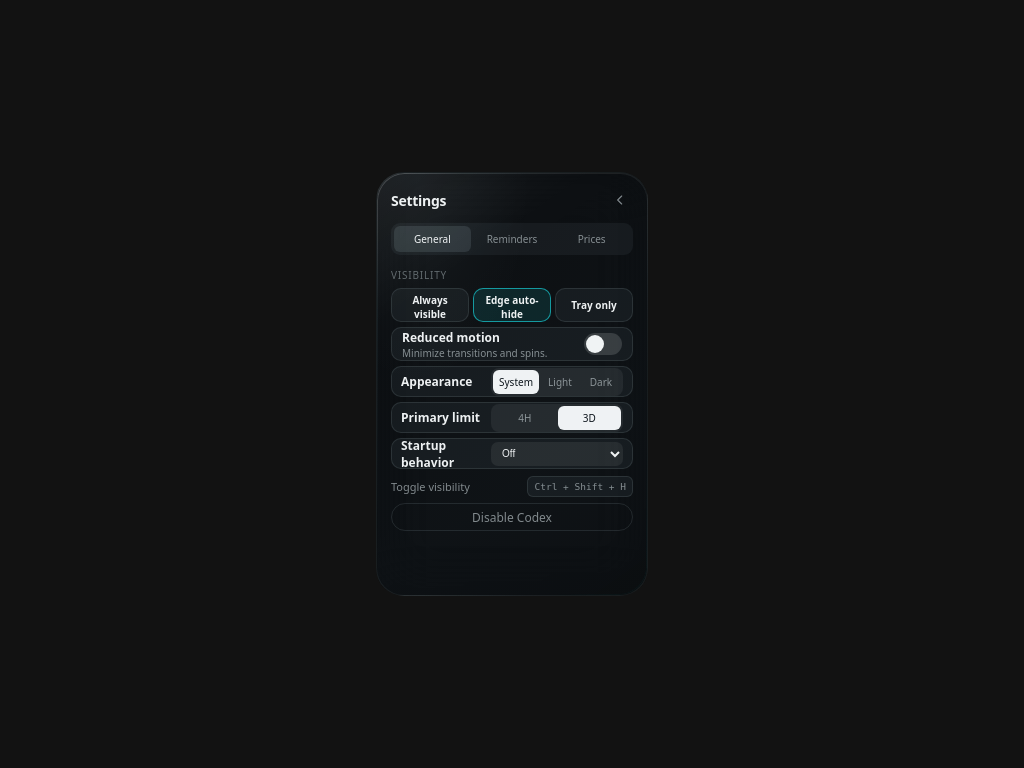
Test case: SettingsSheet › navigates independent settings pages without exposing unrelated controls
The image size is (1024, 768).
Expected: the dropdown labelled "Startup behavior" is shown, [491,442,623,466]
Expected: the number field labelled "Minutes before reset" is not shown
Click the button "Reminders" at (512, 239), box [474,226,550,252]
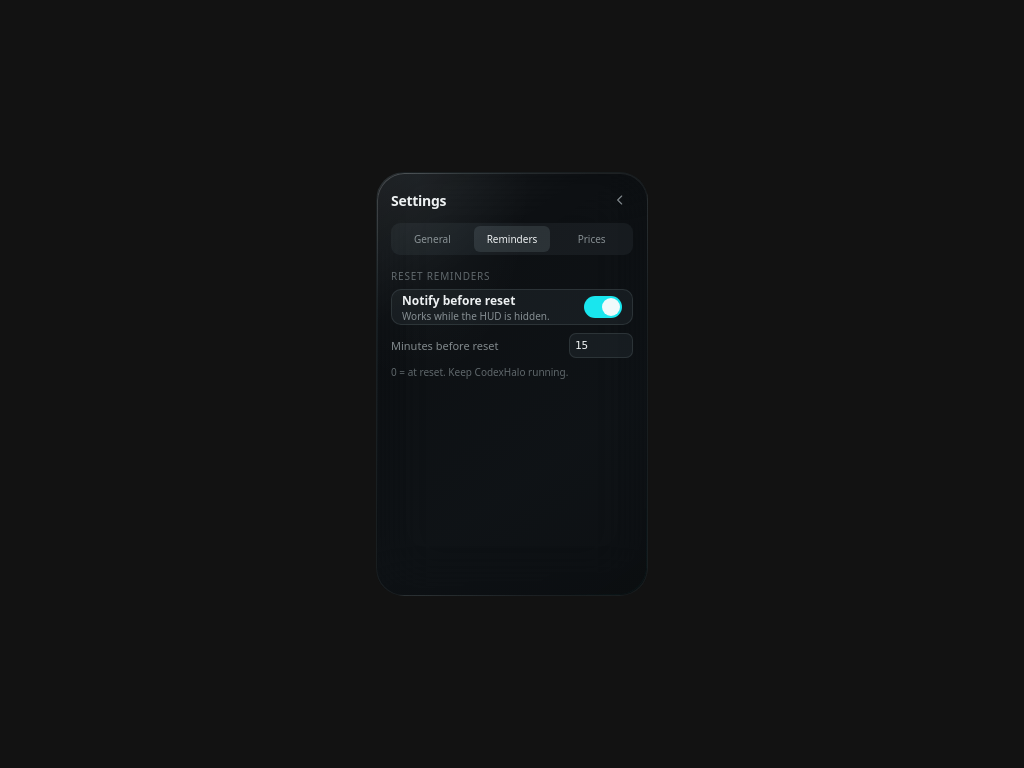
Expected: the number field labelled "Minutes before reset" is shown, [569,333,633,358]
Expected: the text "Startup behavior" is gone
Click the button "Prices" at (592, 239), box [553,226,630,252]
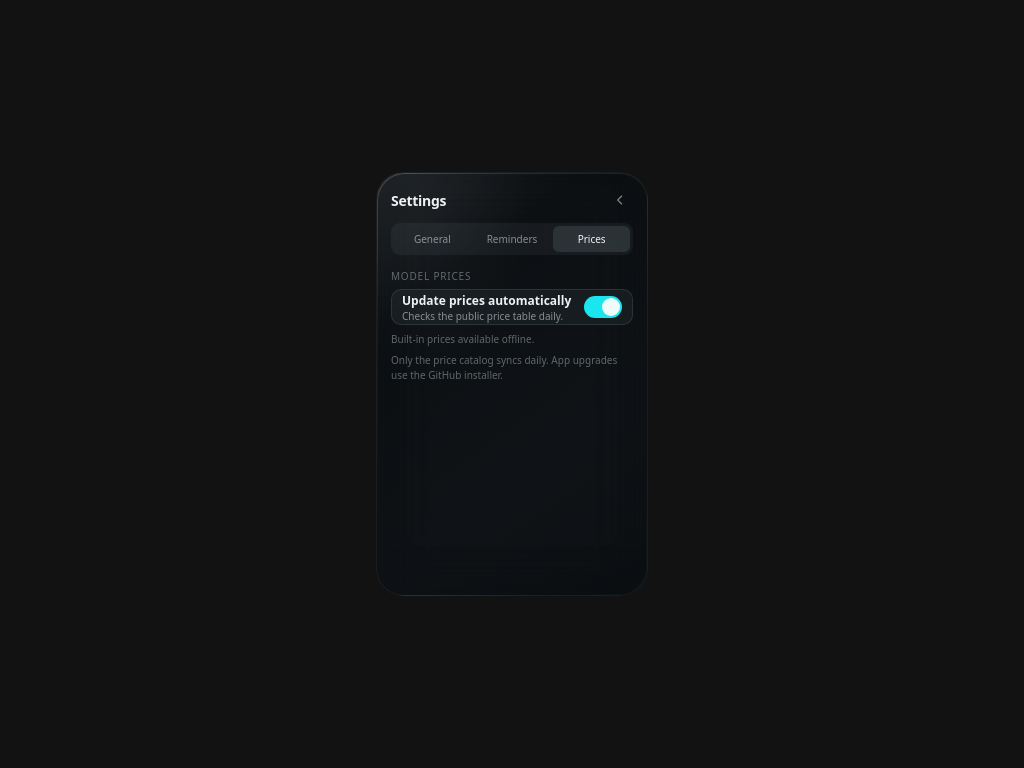
Expected: the switch labelled "Update prices automatically" is shown, [391,289,633,325]
Expected: the switch labelled "Notify before reset" is gone
Expected: the text "App upgrades use the GitHub installer" is shown, [391,353,617,382]
Click the button "General" at (432, 239), box [394,226,471,252]
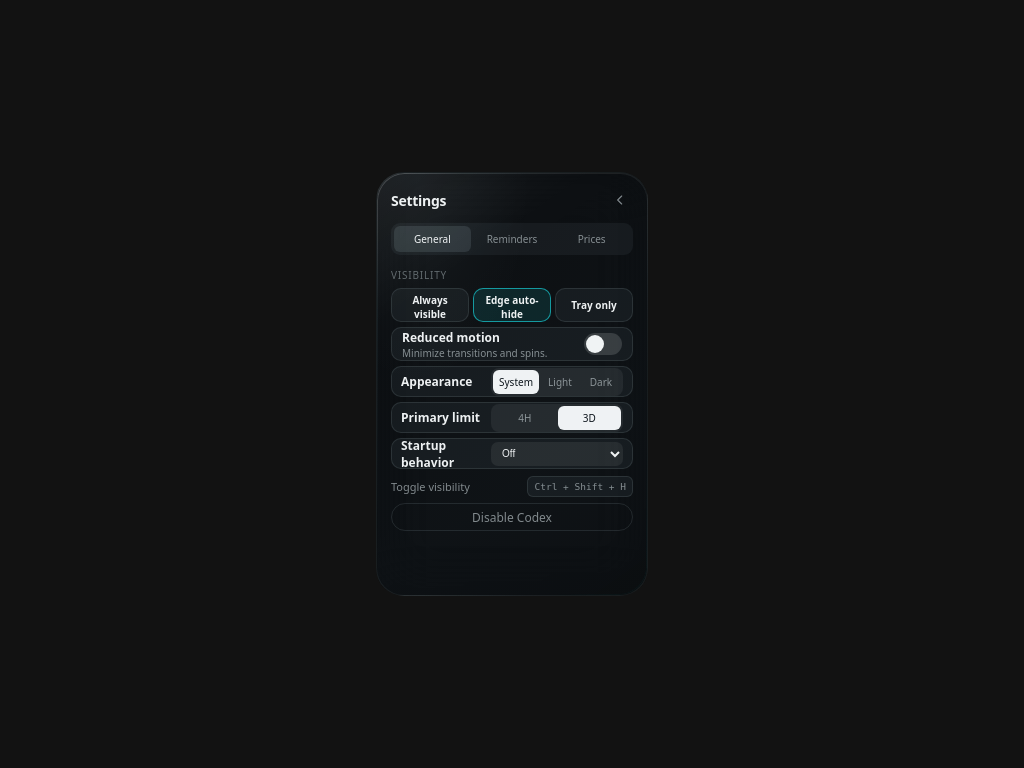
Expected: the button "Disable Codex" is shown, [391,503,633,531]
